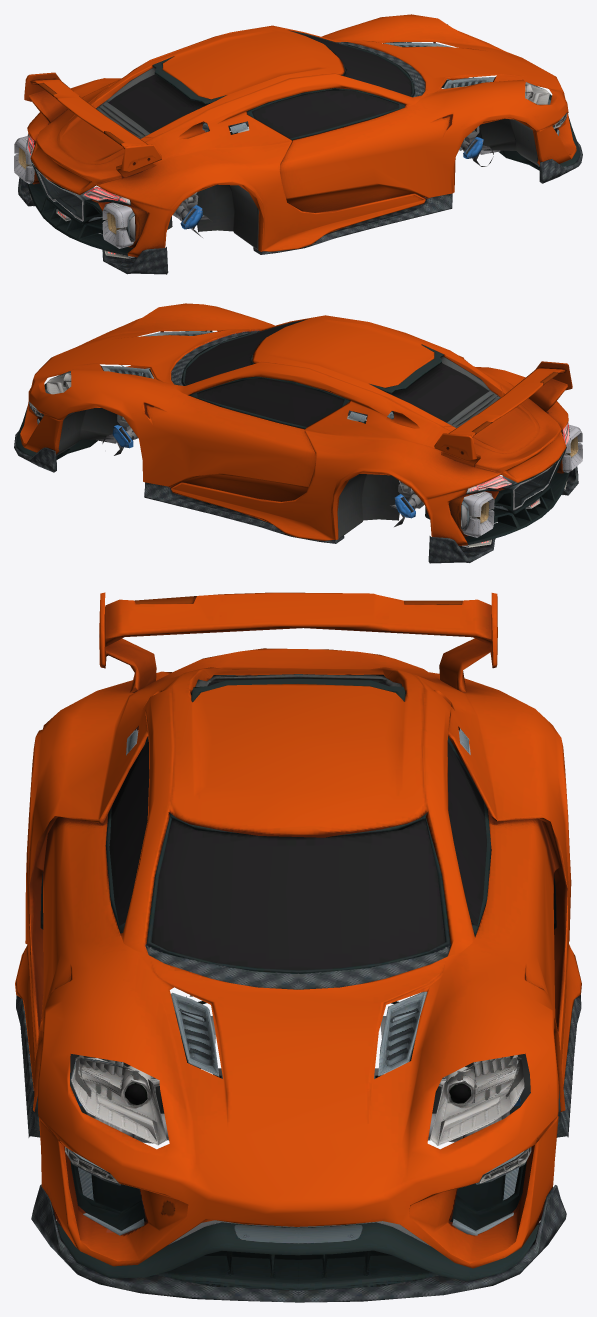
File: SM_SportsCar.glb
The picture shows the model from 3 angles, top to bottom: view 1: azimuth 30°, elevation 25°; view 2: azimuth 150°, elevation 25°; view 3: azimuth 270°, elevation 25°; orthographic projection. The views are drawn at different scales.
Visible parts, largest first — view 1: SM_SportsCar; view 2: SM_SportsCar; view 3: SM_SportsCar.
Part boxes in pixels (x1,y1,x2,y2): SM_SportsCar: (14,14,582,274); SM_SportsCar: (14,303,582,563); SM_SportsCar: (15,592,581,1302).
Bounding box in the file's own units: 4.71 × 1.24 × 2.29.
Materials: 2 (2 with a texture image).
